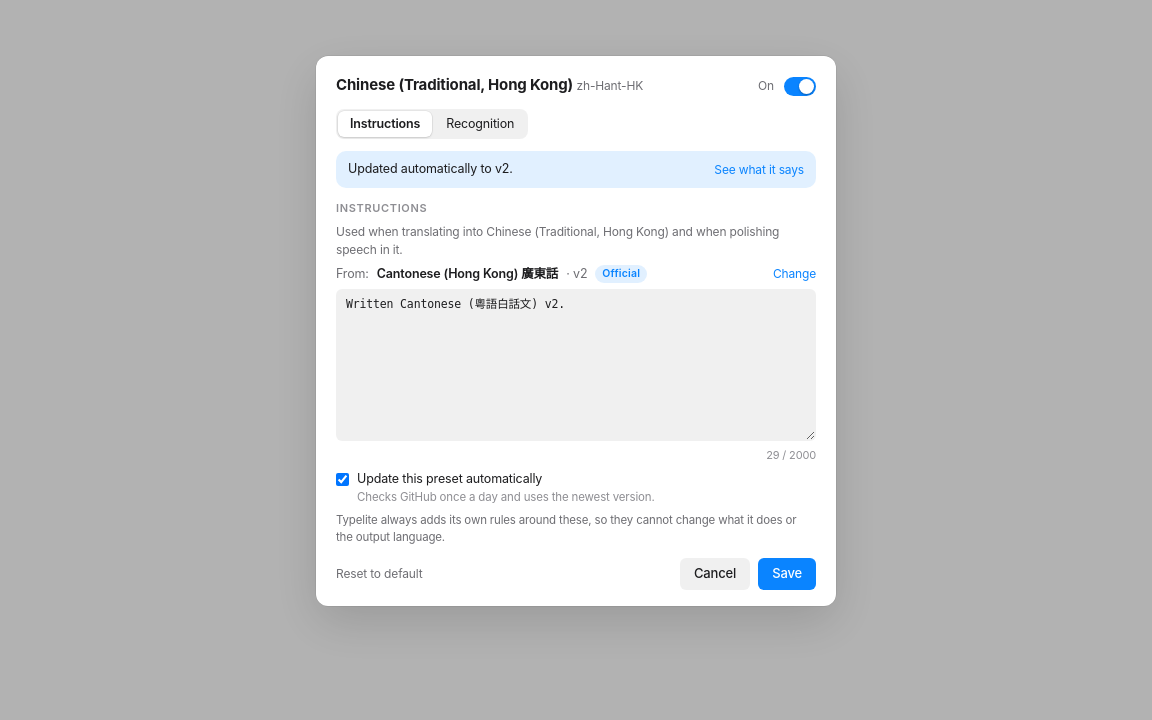
Test case: LanguageSheet › says when a preset was updated automatically
Expected: the text box named "Instructions" holds "Written Cantonese (粵語白話文) v2.", [336, 289, 816, 441]
Expected: the message shows "Updated automatically to v2.", [348, 161, 513, 176]
Step 1. Click the button "See what it says" → point(759, 170), box [714, 161, 804, 179]
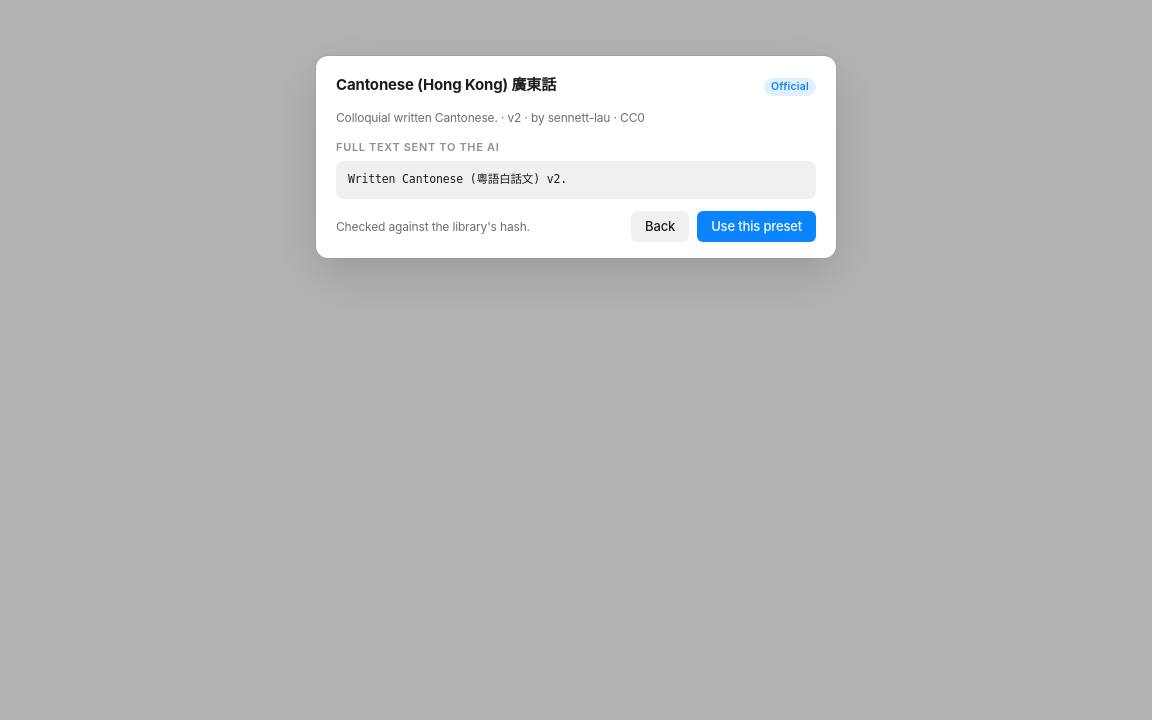
Result: the text with test id "preset-preview-text" reads "Written Cantonese (粵語白話文) v2." at [348, 172, 567, 186]
